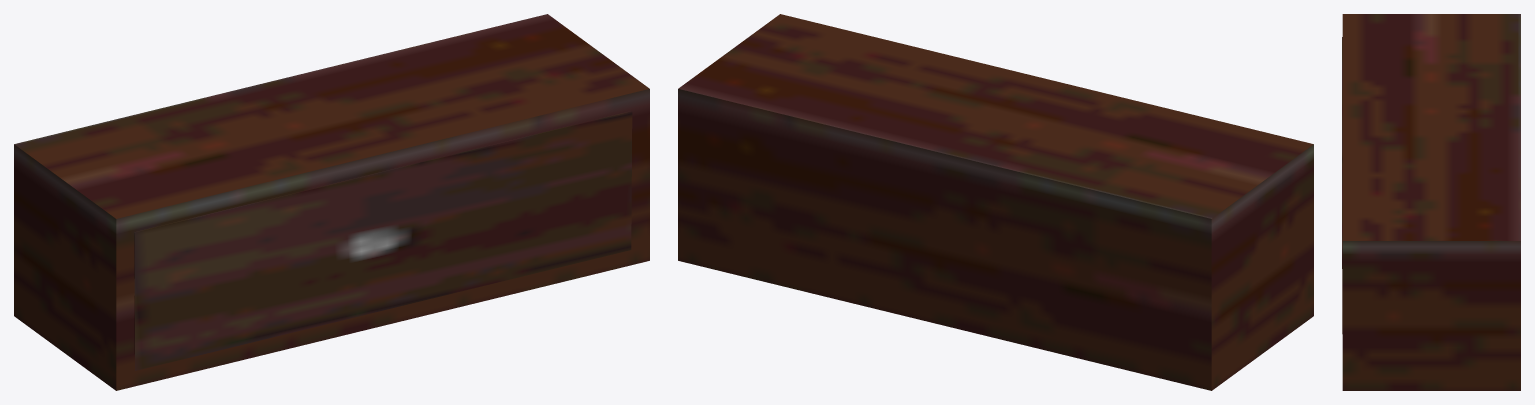
Rendered from DresserElement.fbx.
The picture shows the model from 3 angles, left to right: view 1: azimuth 30°, elevation 25°; view 2: azimuth 150°, elevation 25°; view 3: azimuth 270°, elevation 25°; orthographic projection. The views are drawn at different scales.
Visible parts, largest first — view 1: DresserElement, DresserDrawer; view 2: DresserElement; view 3: DresserElement, DresserDrawer.
Part boxes in pixels (x1,y1,x2,y2): DresserElement: (14, 14, 649, 390); DresserDrawer: (134, 111, 632, 370); DresserElement: (678, 14, 1313, 390); DresserElement: (1342, 14, 1520, 390); DresserDrawer: (1342, 37, 1342, 333).
Size of the model in its own units: 113 by 34.82 by 37.64.
